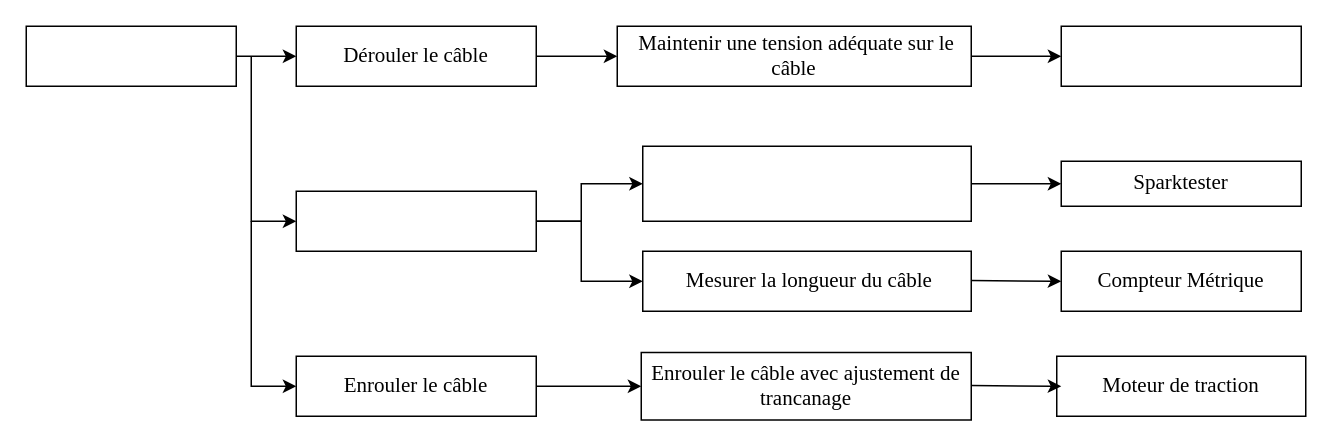
Image size: 1332x447. Some labels were removed from this diagram. The shapes that lost their labels are listed below. From the top down, each one's centre as x and y in pixels, then its label:
pixel 130 55: Dévidage de Câble
pixel 1180 55: Moteur marche arrière
pixel 806 183: Détecter les défauts dans le câble
pixel 415 220: Contrôler le câble
